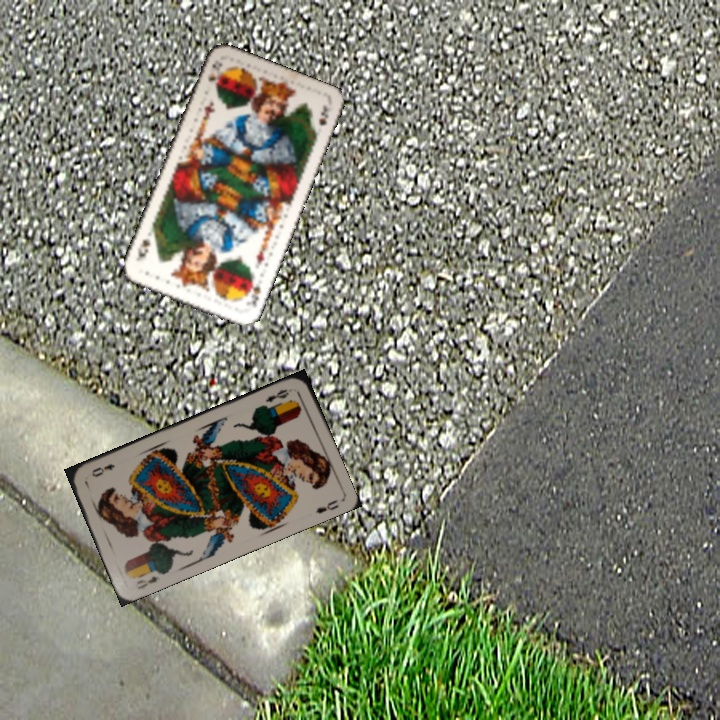EO: (261, 384, 295, 405), (133, 572, 162, 592)
SK: (242, 273, 264, 310), (203, 56, 225, 89)
